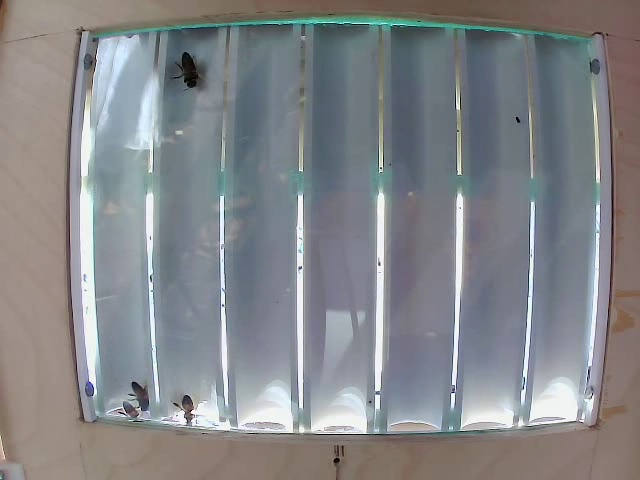bee: (172, 57, 214, 105), (166, 387, 205, 435), (123, 372, 166, 414)
